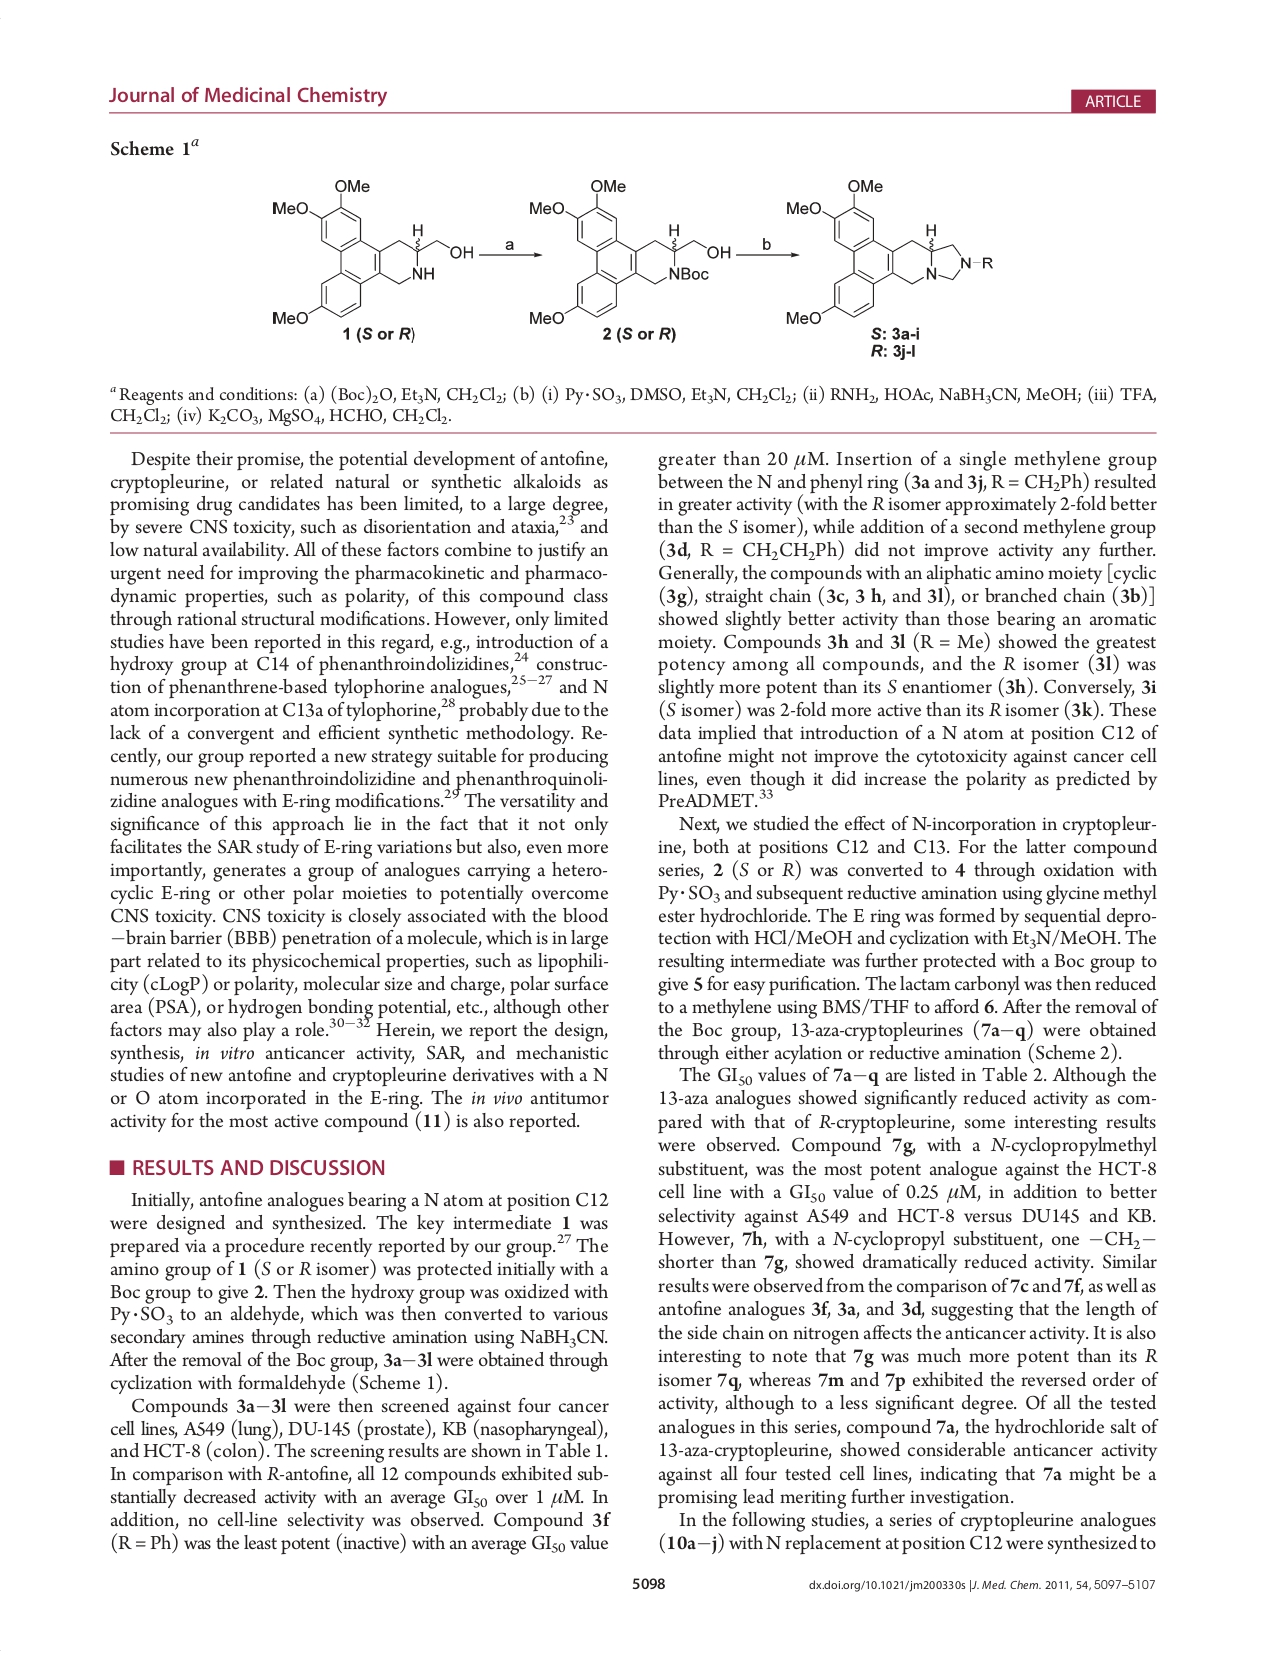exist_molecular: (785, 176, 997, 326), (267, 176, 475, 328), (527, 177, 735, 328)
